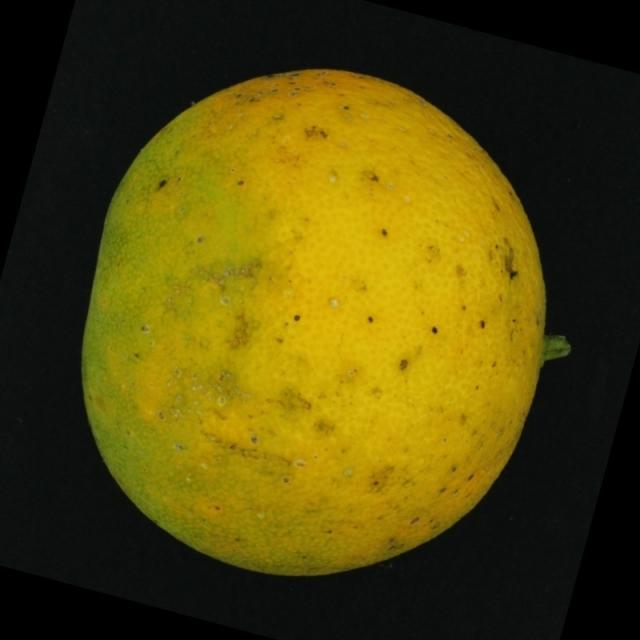grenning: (68, 46, 581, 589)
